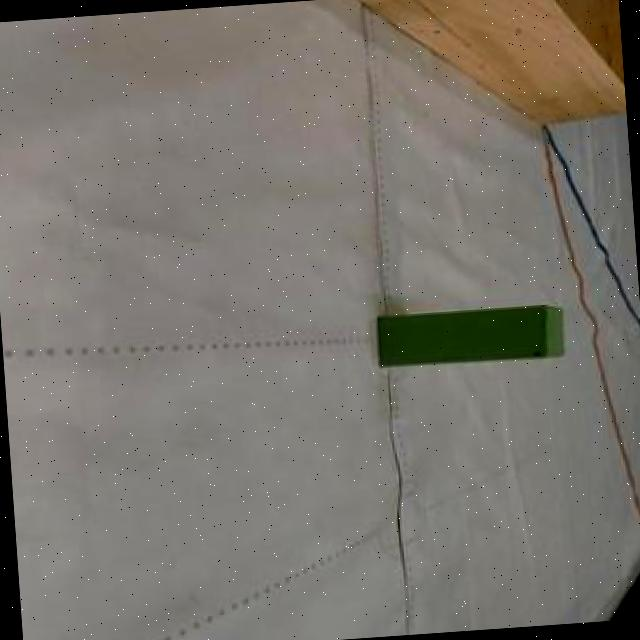greenbox: (376, 299, 570, 372)
